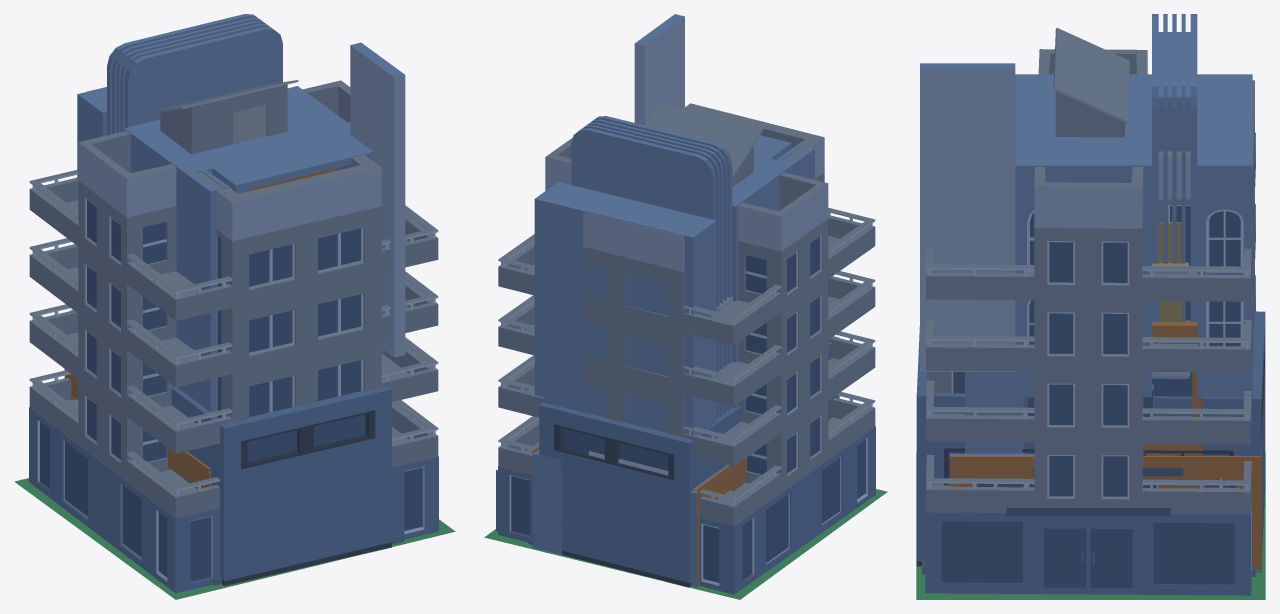
The model's file is rua-kit.glb.
3 views of the same model, side by side, from view 1: azimuth 30°, elevation 25°; view 2: azimuth 150°, elevation 25°; view 3: azimuth 270°, elevation 25° (orthographic). The views are drawn at different scales.
Parts seen in each view (by area): view 1: predio_4, predio_3, predio_6, gramado; view 2: predio_4, predio_3, predio_6, gramado; view 3: predio_4, predio_3, predio_4_vitrine, predio_6, gramado, predio_5, predio_1, predio_3_vitrine.
Boxes of the visible parts, x1,y1,x2,y2 form: predio_4: [29, 80, 438, 593]; predio_3: [64, 14, 405, 488]; predio_6: [70, 310, 391, 585]; gramado: [14, 478, 455, 599]; predio_4: [496, 102, 875, 594]; predio_3: [532, 14, 828, 587]; predio_6: [539, 336, 839, 587]; gramado: [484, 489, 887, 599]; predio_4: [925, 28, 1255, 595]; predio_3: [920, 14, 1261, 572]; predio_4_vitrine: [941, 508, 1234, 587]; predio_6: [916, 311, 1265, 566]; gramado: [916, 452, 1265, 599]; predio_5: [1143, 320, 1202, 455]; predio_1: [1152, 222, 1190, 378]; predio_3_vitrine: [976, 468, 1237, 488].
Size of the model in its own units: 7 by 11.18 by 7.
1 material, 1 textured.
